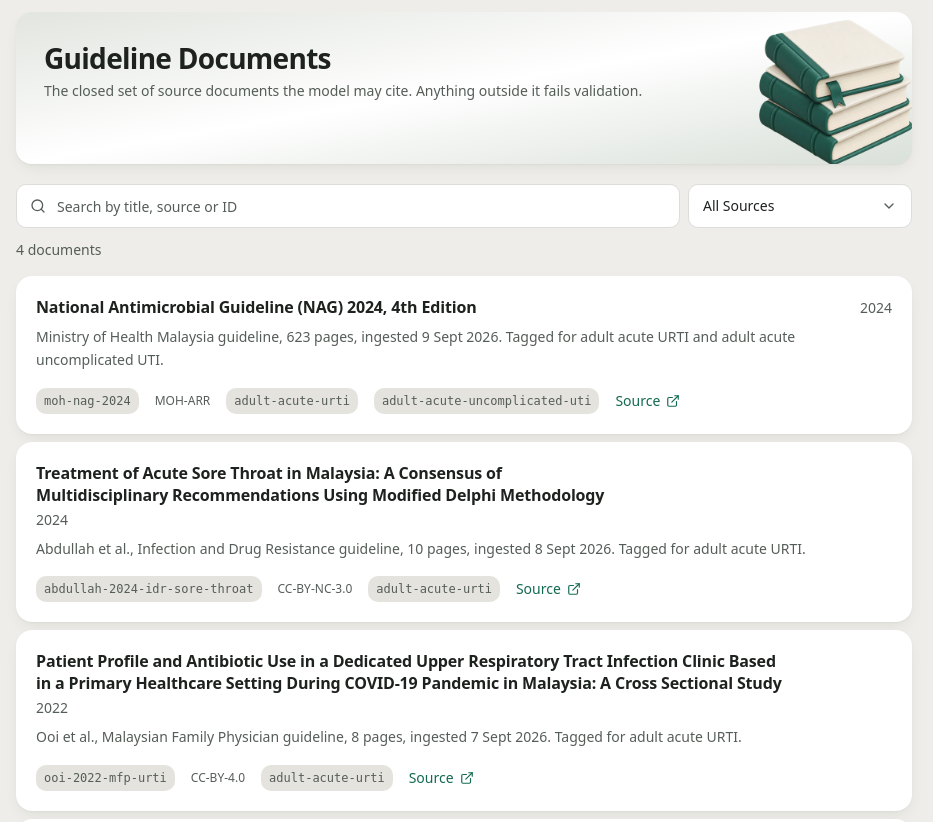
Test: the source dropdown › lists the required source options in order when every source is present
Click the button named "Filter by source" at (800, 206), box [688, 184, 912, 228]
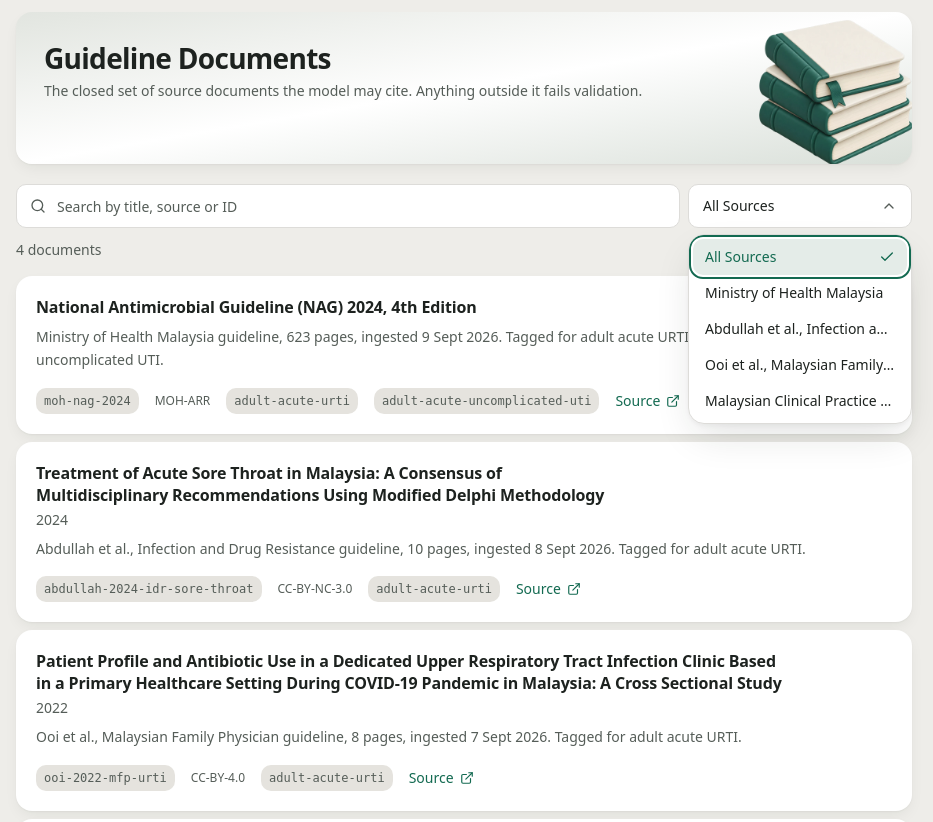
Expected: the options read "All Sources", "Ministry of Health Malaysia", "Abdullah et al., Infection and Drug Resistance", "Ooi et al., Malaysian Family Physician", "Malaysian Clinical Practice Guidelines", in this order, [693, 239, 907, 275]; [705, 283, 883, 302]; [705, 319, 912, 338]; [705, 355, 912, 374]; [705, 391, 912, 410]
